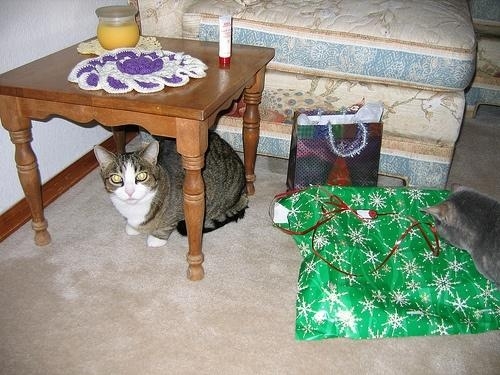cat: (93, 131, 252, 250)
